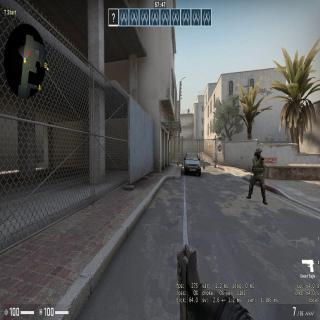CT-Body: (246, 145, 268, 203)
CT-Head: (254, 147, 262, 157)
